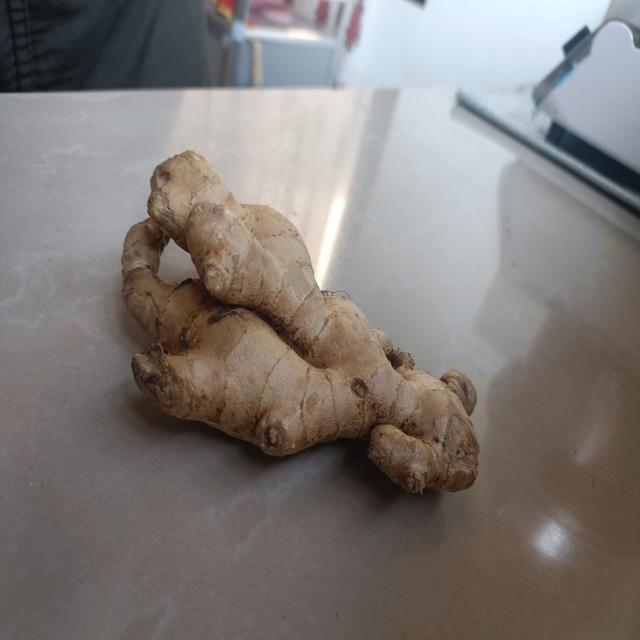ginger: (121, 150, 480, 490)
